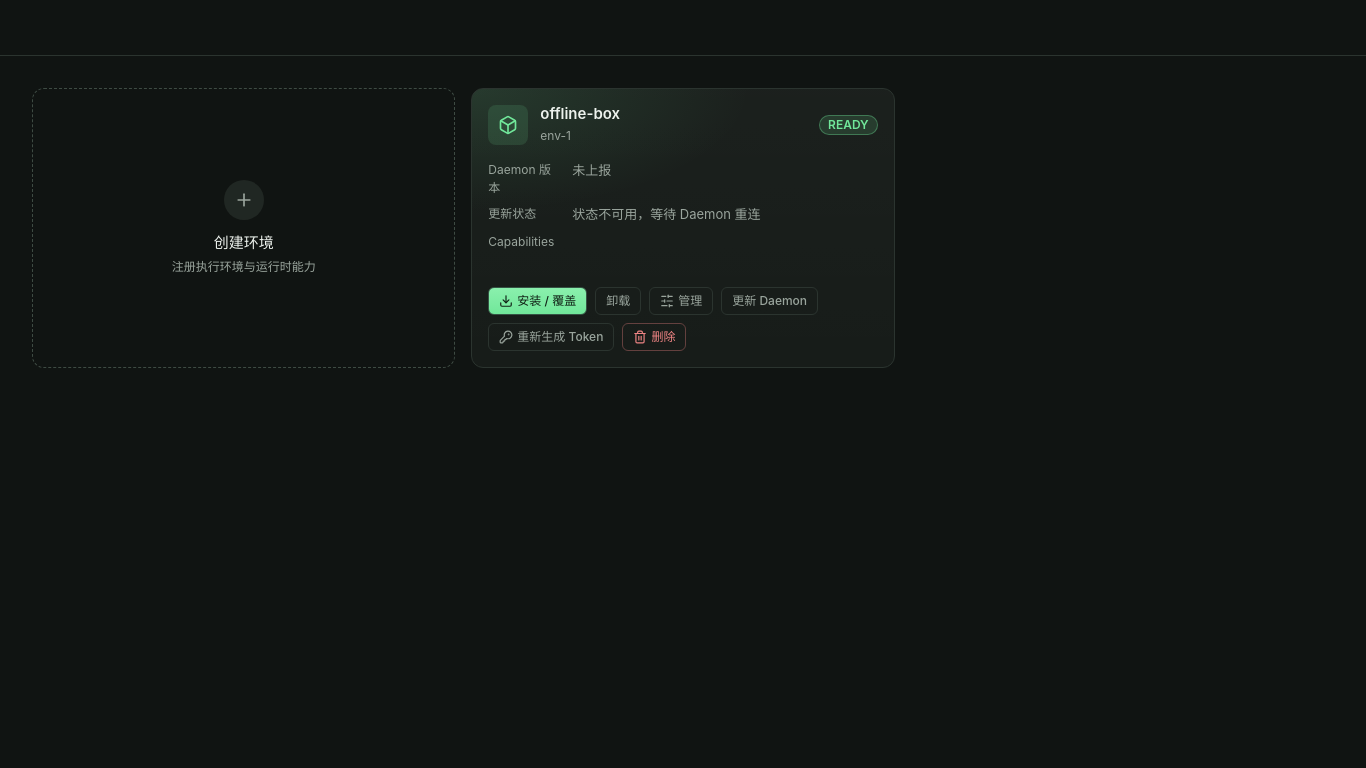
EnvironmentsPage › keeps the update modal open with the unavailable message instead of presenting a data conflict
The width and height of the screenshot is (1366, 768).
Click the button with aria-label "更新 Daemon offline-box" at coordinates (770, 301), box [721,287,818,315]
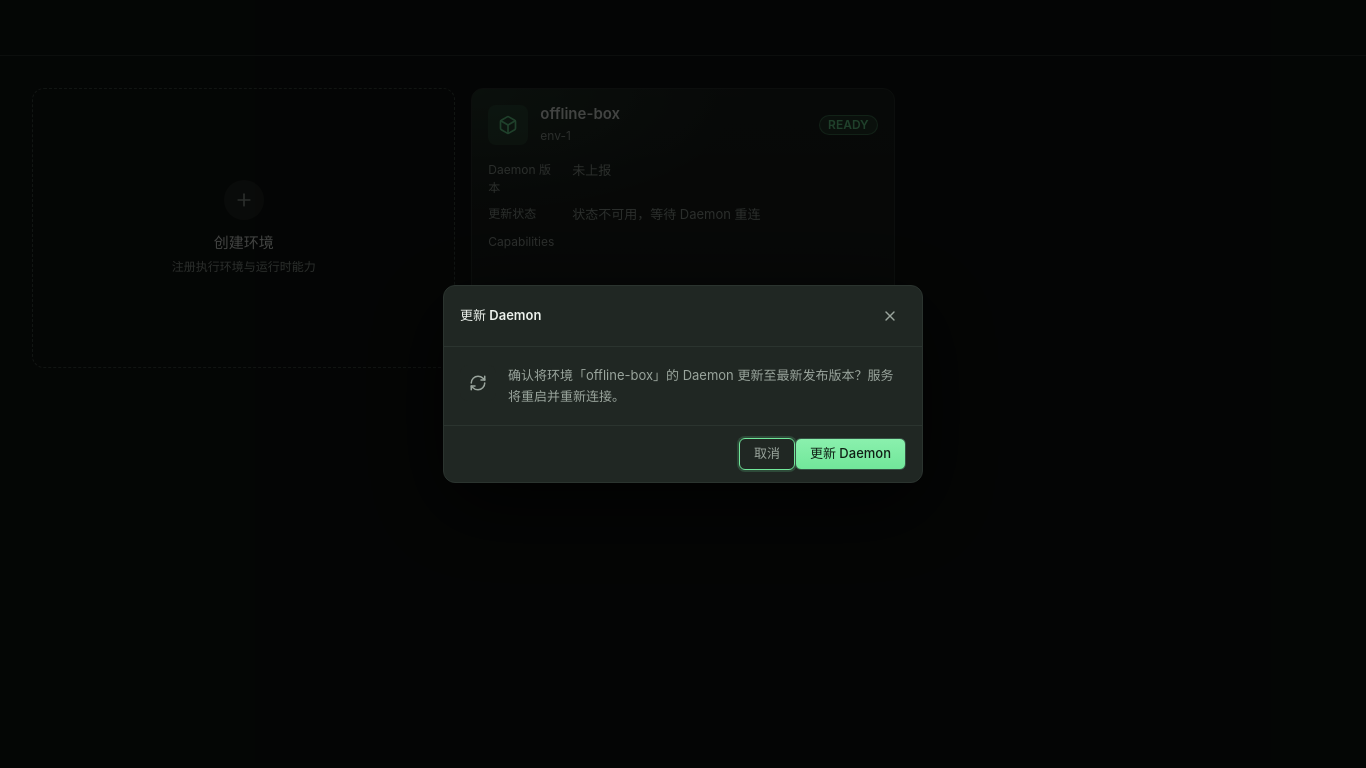
Click the button "更新 Daemon" at coordinates (850, 454), box [795,438,906,470]
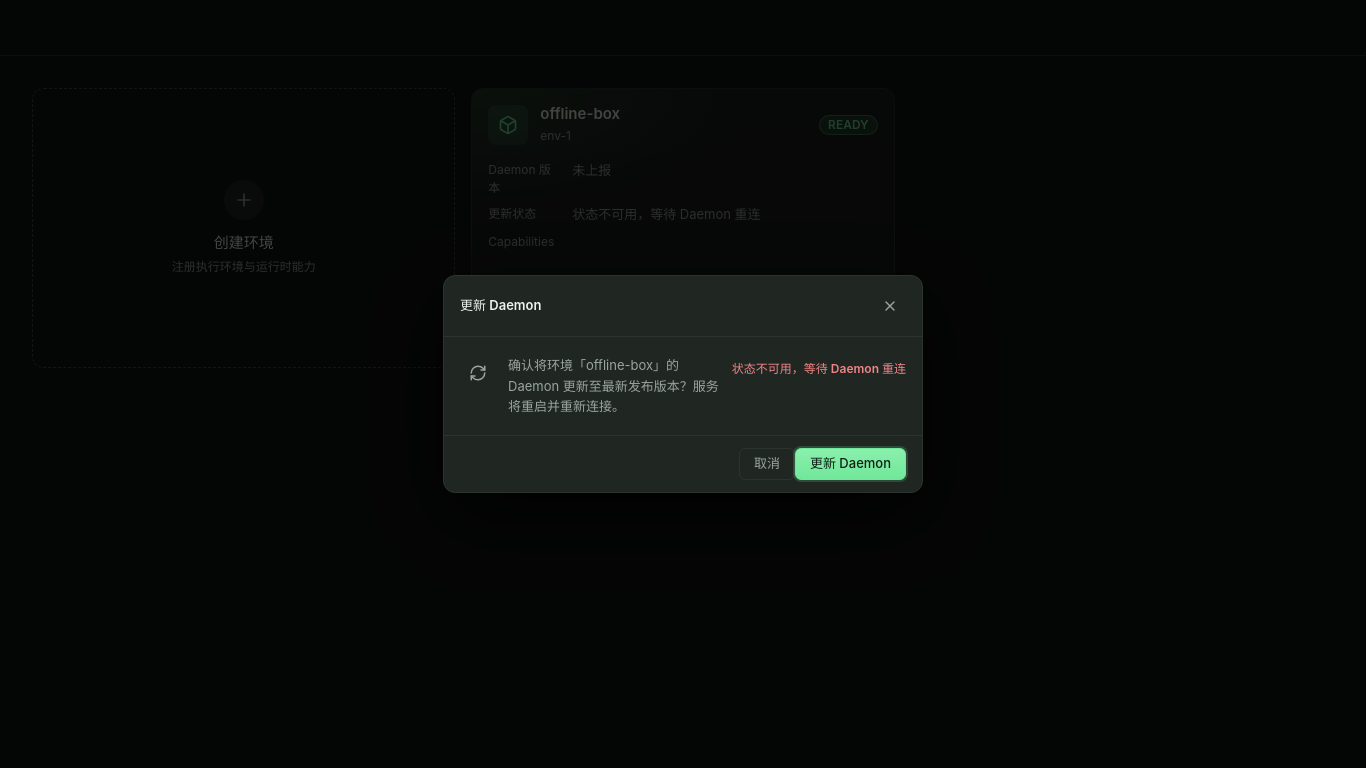
Now the message reads "状态不可用，等待 Daemon 重连", box [732,361,906,376]
